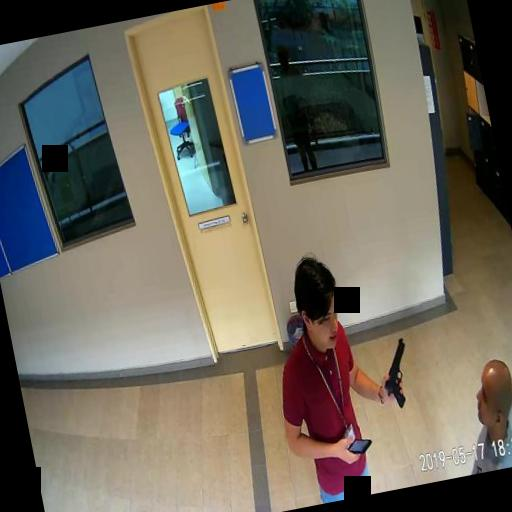Handgun: (375, 336, 415, 408)
